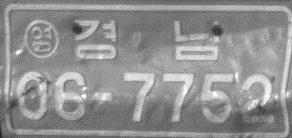-: (89, 85, 116, 109)
0: (16, 70, 49, 121)
2: (242, 73, 275, 125)
5: (201, 72, 233, 123)
6: (52, 71, 87, 122)
7: (122, 70, 154, 123), (162, 72, 193, 122)
경남_D: (72, 18, 222, 62)
영: (23, 18, 60, 59)
